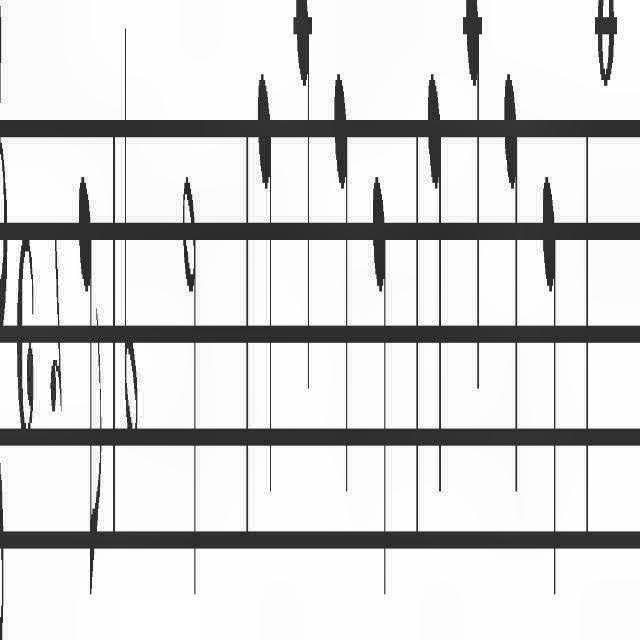Bass-clef: (0, 0, 8, 640)
Eighth-note: (78, 161, 102, 619)
Eighth-rest: (42, 185, 66, 491)
Full-note: (595, 0, 620, 148)
Half-note: (178, 131, 203, 640), (120, 1, 140, 476)
Quarter-note: (534, 132, 562, 628), (256, 1, 280, 544), (364, 168, 392, 632), (500, 60, 522, 568), (424, 1, 444, 556), (330, 71, 354, 532), (461, 1, 483, 476), (292, 0, 316, 412)
